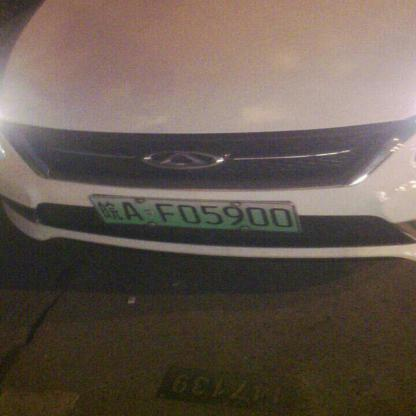lp: (89, 195, 302, 231)
